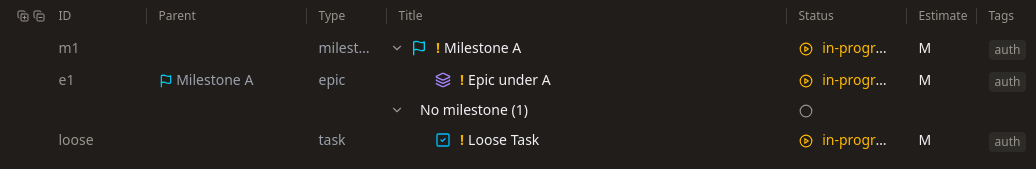
Test: TreeTable › event delegation › clicking a bucket row title does NOT open/select it and toggles its group instead
Expected: the button "Loose Task" is shown, [468, 130, 539, 150]
Click the bucket's title (the exact path that used to route to view.open).
Click the button "No milestone (1)": (474, 110) [420, 100, 528, 120]
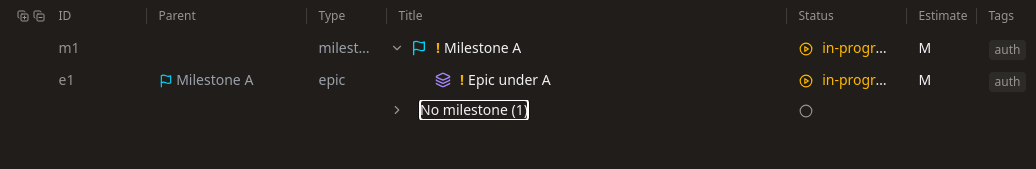
Expected: the button "Loose Task" is gone
Click the button "No milestone (1)": (474, 110) [420, 100, 528, 120]
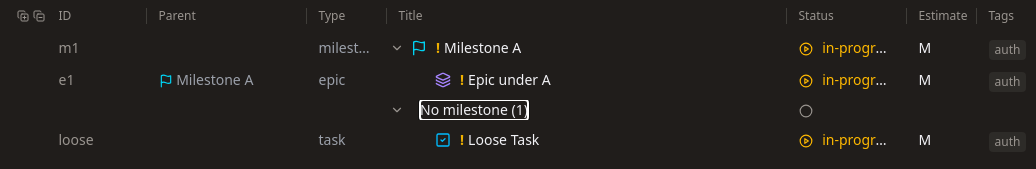
Expected: the button "Loose Task" is shown, [468, 130, 539, 150]
